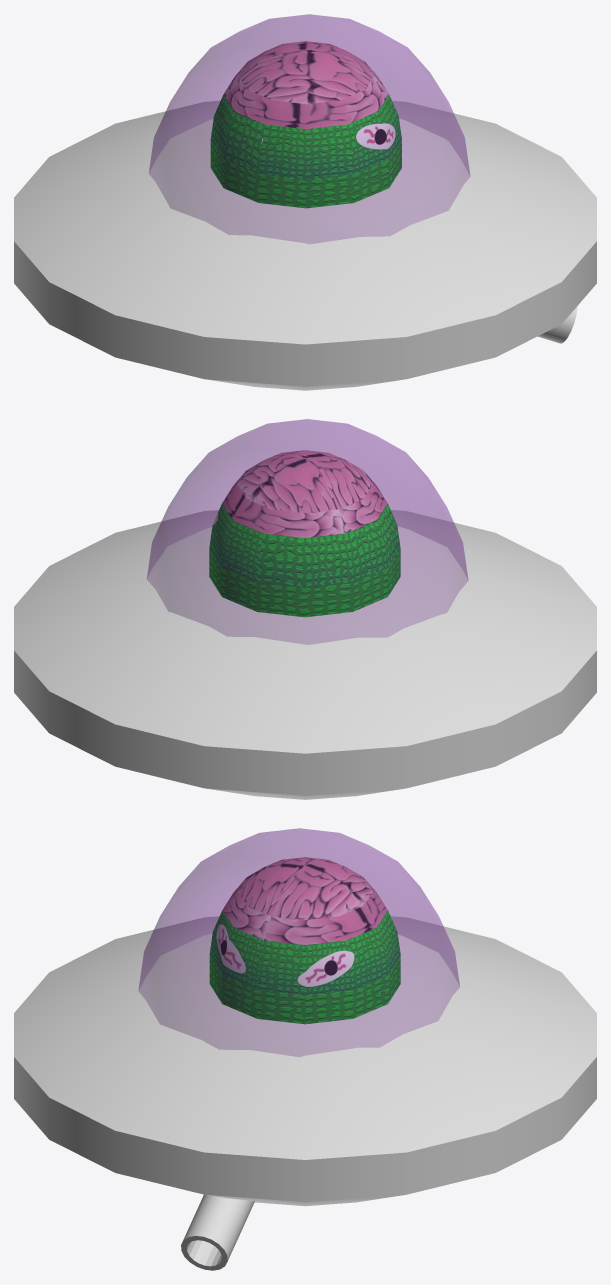
File: UFO_Unity.FBX
The picture shows the model from 3 angles, top to bottom: view 1: azimuth 30°, elevation 25°; view 2: azimuth 150°, elevation 25°; view 3: azimuth 270°, elevation 25°; orthographic projection.
Parts seen in each view (by area): view 1: Cylinder001, Capsule001, Capsule002, Cylinder002; view 2: Cylinder001, Capsule001, Capsule002; view 3: Cylinder001, Capsule001, Capsule002, Cylinder002.
Boxes of the visible parts, left/top/right/bottom form: Cylinder001: left=14, top=100, right=596, bottom=390; Capsule001: left=149, top=14, right=470, bottom=243; Capsule002: left=210, top=41, right=401, bottom=208; Cylinder002: left=537, top=306, right=577, bottom=343; Cylinder001: left=14, top=510, right=596, bottom=799; Capsule001: left=147, top=419, right=468, bottom=644; Capsule002: left=209, top=450, right=400, bottom=617; Cylinder001: left=14, top=916, right=596, bottom=1206; Capsule001: left=138, top=828, right=459, bottom=1056; Capsule002: left=209, top=857, right=400, bottom=1024; Cylinder002: left=181, top=1194, right=254, bottom=1270.
Size of the model in its own units: 136 by 83.33 by 134.
Materials: 2 (1 with a texture image).
